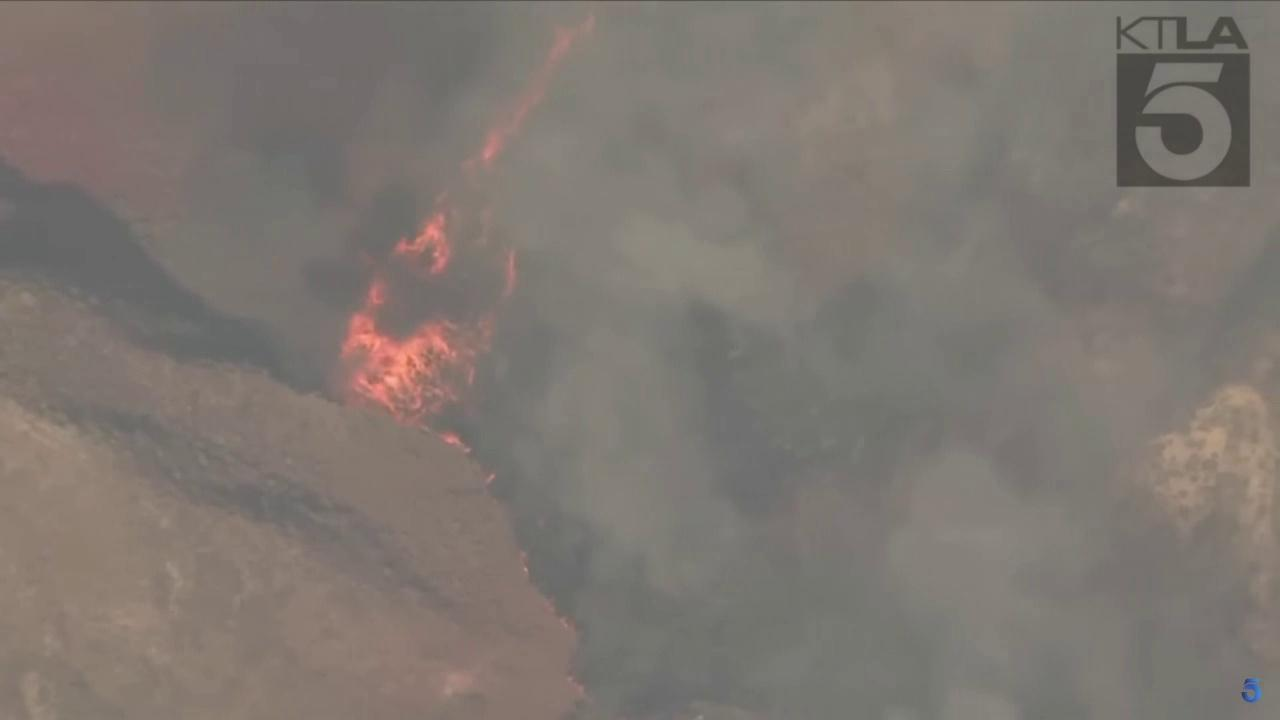fire: (322, 11, 597, 456), (484, 471, 496, 489)
smoke: (152, 0, 1280, 720)
